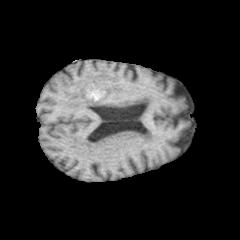glioma: (64, 65, 122, 108)
